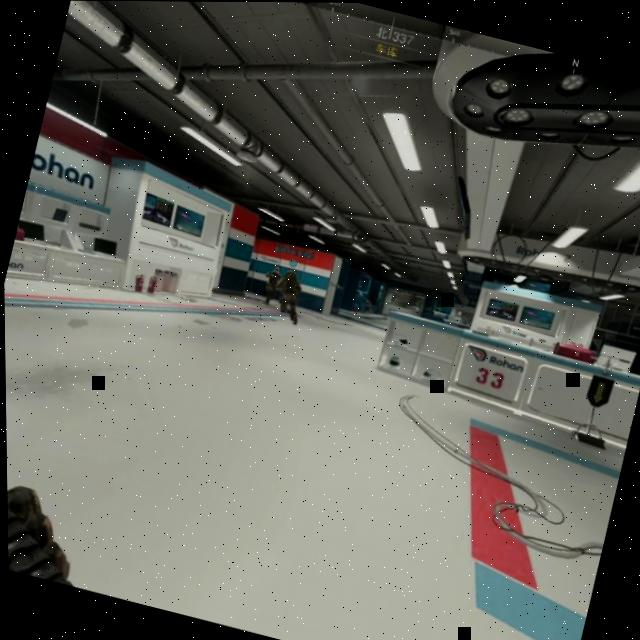MW2_body: (257, 263, 284, 306)
